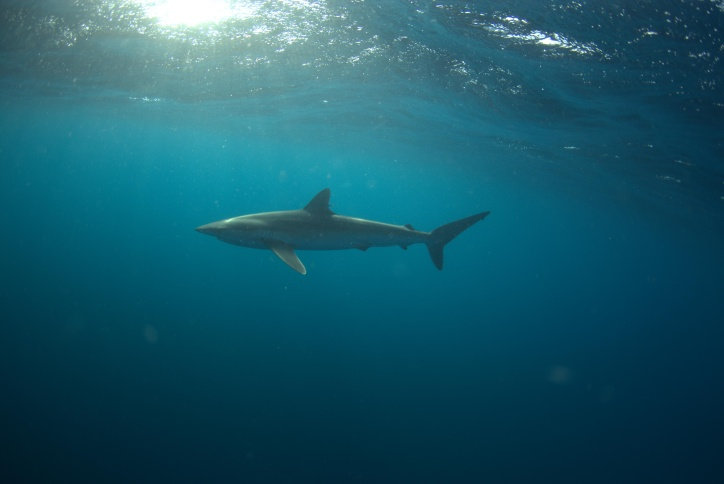Sedoso: (182, 178, 496, 286)
